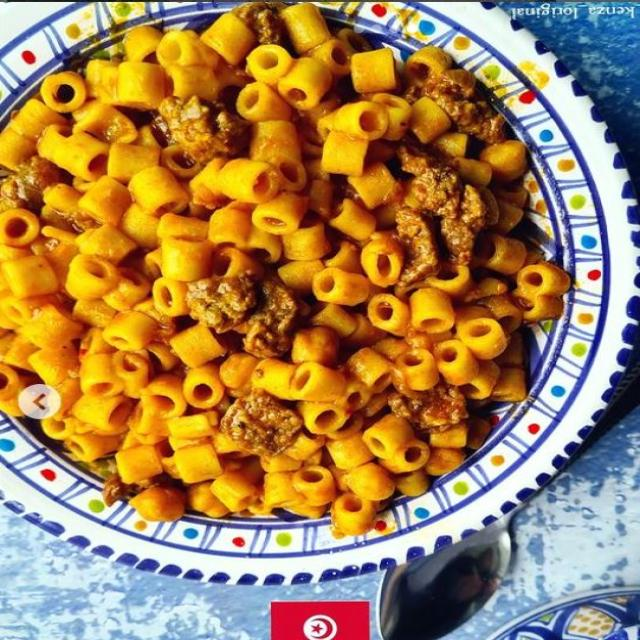Pasta: (0, 22, 580, 540)
